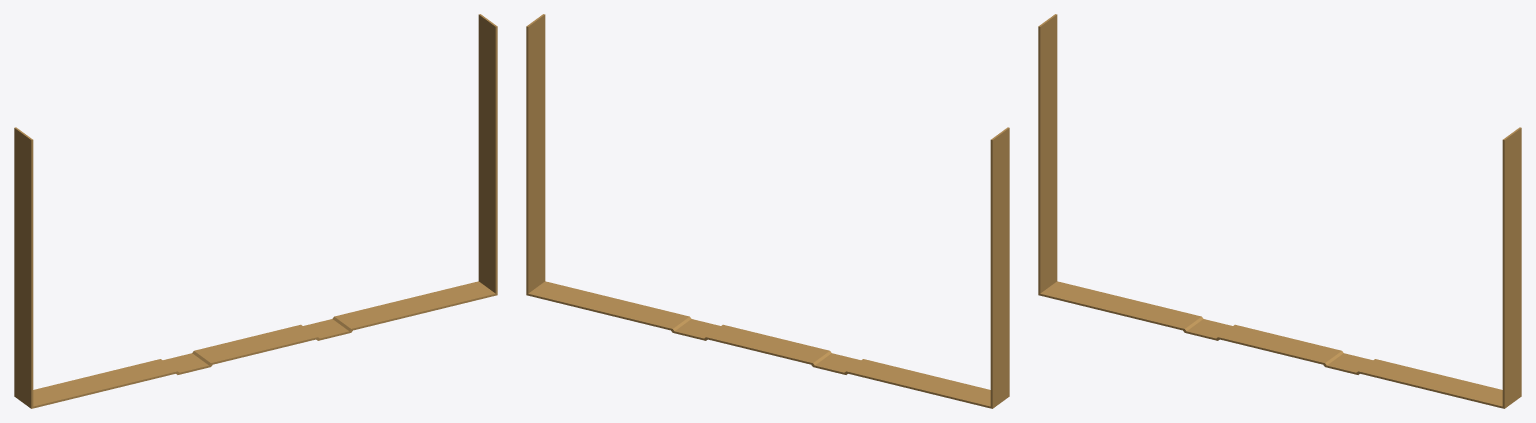
Rendered from original-25.obj.
The picture shows the model from 3 angles, left to right: view 1: azimuth 30°, elevation 25°; view 2: azimuth 150°, elevation 25°; view 3: azimuth 330°, elevation 25°; orthographic projection.
Parts seen in each view (by area): view 1: Group12/mesh41/mesh41-geometry#mesh41-geometry; view 2: Group12/mesh41/mesh41-geometry#mesh41-geometry; view 3: Group12/mesh41/mesh41-geometry#mesh41-geometry.
Part boxes in pixels (x1,y1,x2,y2): Group12/mesh41/mesh41-geometry#mesh41-geometry: (14,14,497,408); Group12/mesh41/mesh41-geometry#mesh41-geometry: (526,14,1009,408); Group12/mesh41/mesh41-geometry#mesh41-geometry: (1038,14,1521,408).
Size of the model in its own units: 1.08 by 0.5971 by 0.0682.
